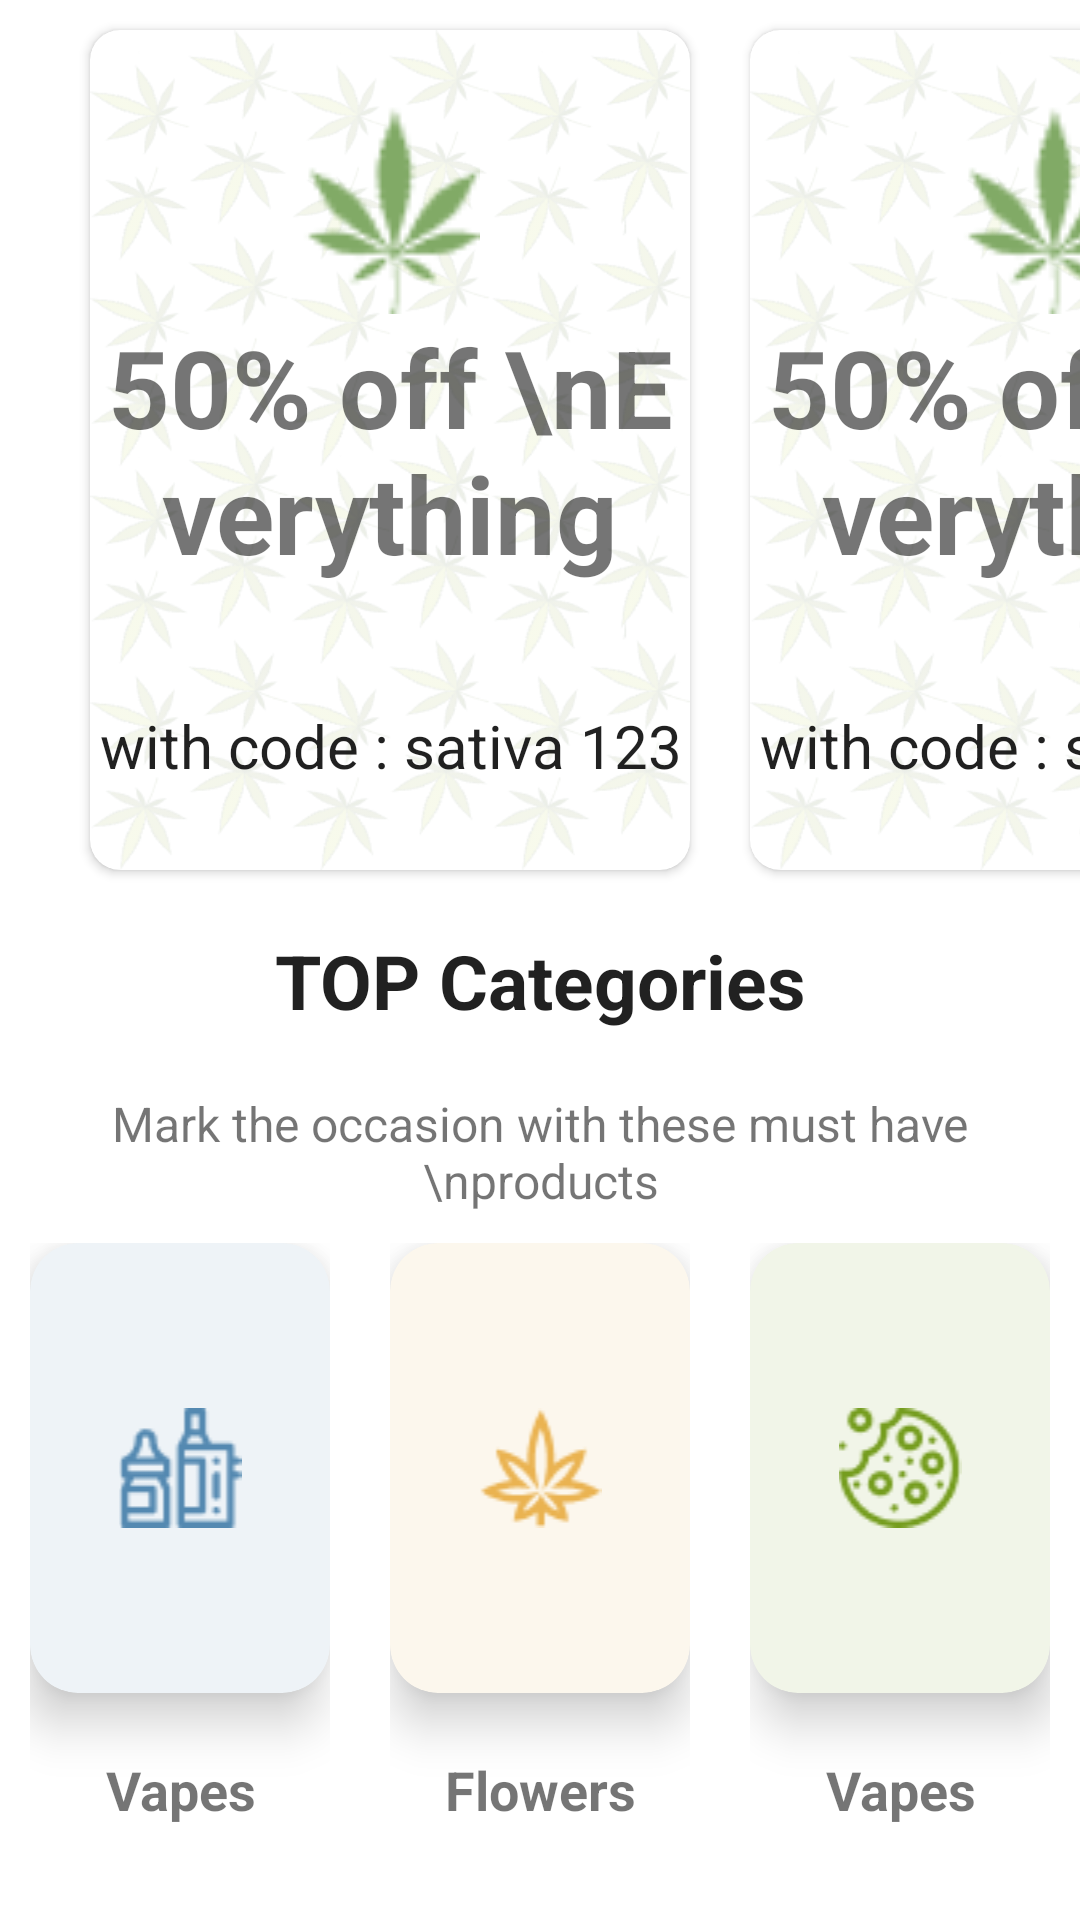

Named icons in this screenshot (1080*1920) and their bounding boxes, BBox(x1, y1, x2, y2):
cookie: BBox(839, 1408, 962, 1528)
flower: BBox(481, 1410, 602, 1528)
vape: BBox(120, 1408, 242, 1528)
